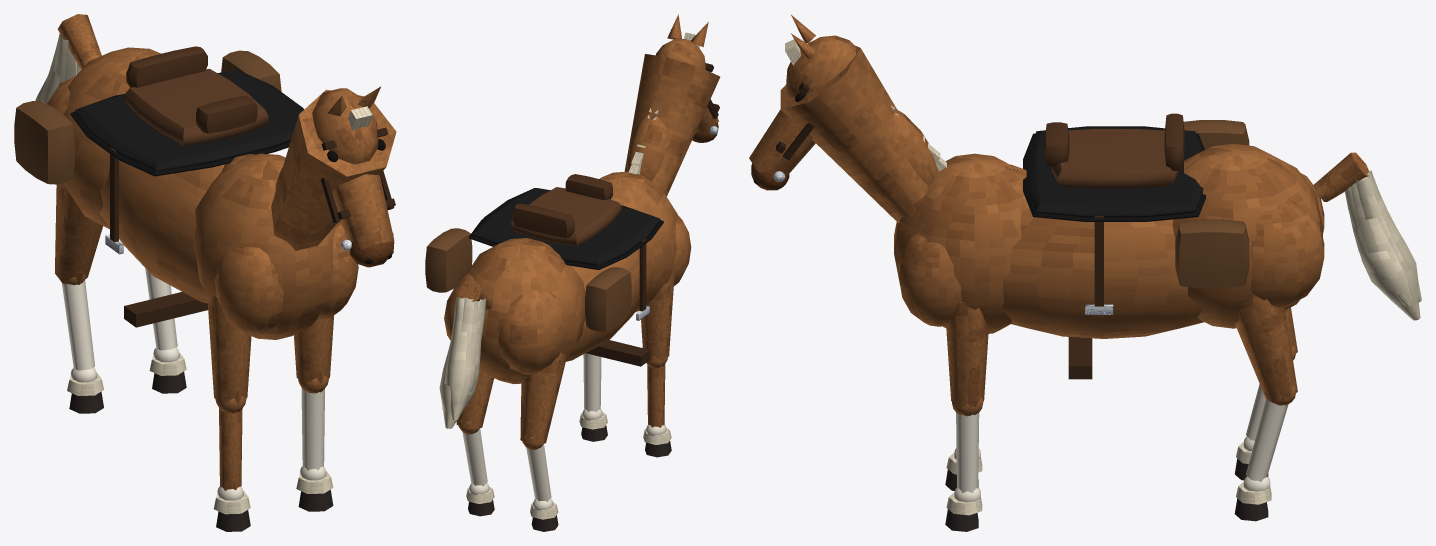
File: caballo-de-montar.glb
The picture shows the model from 3 angles, left to right: view 1: azimuth 30°, elevation 25°; view 2: azimuth 150°, elevation 25°; view 3: azimuth 270°, elevation 25°; orthographic projection. The views are drawn at different scales.
Parts seen in each view (by area): view 1: caballo-de-montar, object 3, object 2, object 19, object 29, object 34, object 24, object 4, object 39, object 26, object 21, object 36 (+6 smaller); view 2: caballo-de-montar, object 40, object 38, object 29, object 34, object 24, object 19, object 2; view 3: caballo-de-montar, object 38, object 2, object 3, object 40, object 24, object 34, object 39.
Boxes of the visible parts, x1=… form: caballo-de-montar: x1=14, y1=14, x2=396, y2=403; object 3: x1=332, y1=174, x2=394, y2=249; object 2: x1=312, y1=88, x2=378, y2=164; object 19: x1=62, y1=280, x2=94, y2=370; object 29: x1=219, y1=408, x2=242, y2=490; object 34: x1=301, y1=388, x2=324, y2=470; object 24: x1=145, y1=268, x2=177, y2=350; object 4: x1=349, y1=241, x2=394, y2=267; object 39: x1=53, y1=35, x2=76, y2=84; object 26: x1=152, y1=371, x2=186, y2=393; object 21: x1=69, y1=391, x2=103, y2=413; object 36: x1=298, y1=490, x2=333, y2=511; caballo-de-montar: x1=425, y1=54, x2=720, y2=444; object 40: x1=444, y1=297, x2=476, y2=420; object 38: x1=439, y1=297, x2=481, y2=428; object 29: x1=647, y1=364, x2=665, y2=427; object 34: x1=583, y1=353, x2=601, y2=412; object 24: x1=462, y1=428, x2=487, y2=486; object 19: x1=526, y1=444, x2=551, y2=501; object 2: x1=656, y1=38, x2=705, y2=69; caballo-de-montar: x1=780, y1=45, x2=1369, y2=406; object 38: x1=1351, y1=170, x2=1420, y2=320; object 2: x1=786, y1=35, x2=855, y2=97; object 3: x1=749, y1=109, x2=815, y2=173; object 40: x1=1356, y1=174, x2=1421, y2=302; object 24: x1=1246, y1=399, x2=1288, y2=481; object 34: x1=956, y1=412, x2=979, y2=492; object 39: x1=1350, y1=218, x2=1410, y2=306.
Bounding box in the file's own units: 1.15 × 2.26 × 2.86.
Materials: 15 (4 with a texture image).
